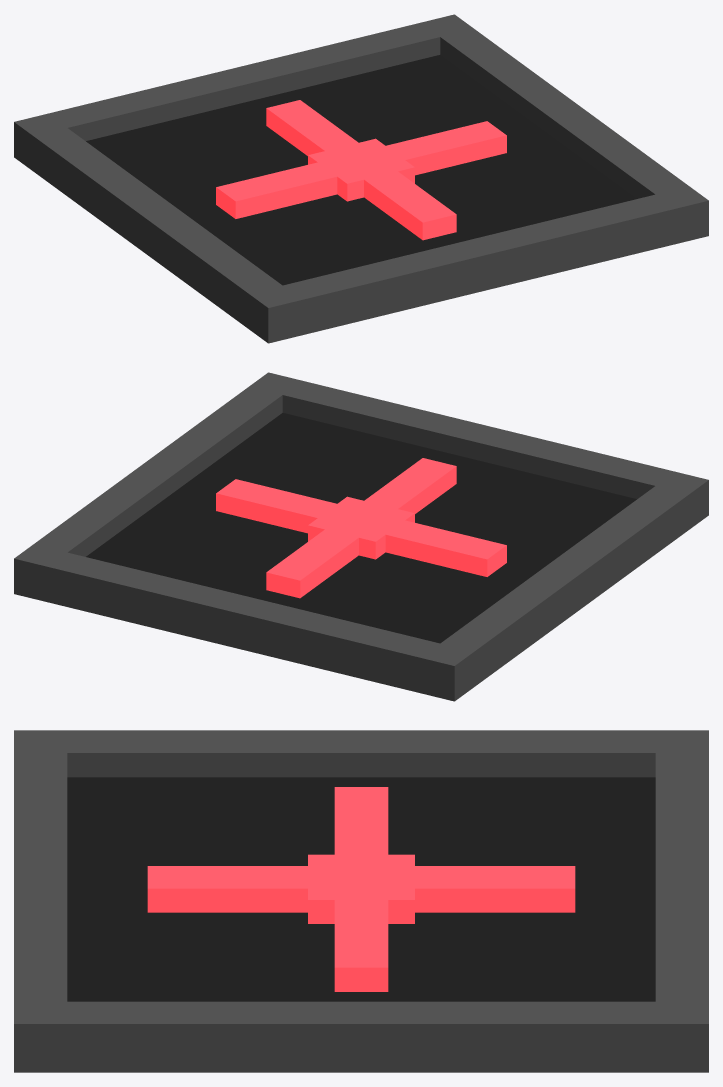
Rendered from trap_LARGE_DOT_RED.glb.
3 renders of one model, top to bottom at view 1: azimuth 30°, elevation 25°; view 2: azimuth 150°, elevation 25°; view 3: azimuth 270°, elevation 25°, orthographic. The views are drawn at different scales.
Visible parts, largest first — view 1: item_TRAP_LARGE_DOT_RED; view 2: item_TRAP_LARGE_DOT_RED; view 3: item_TRAP_LARGE_DOT_RED.
Boxes of the visible parts, box(x1,y1,x2,y2) form: item_TRAP_LARGE_DOT_RED: box(14, 14, 708, 343); item_TRAP_LARGE_DOT_RED: box(14, 372, 708, 701); item_TRAP_LARGE_DOT_RED: box(14, 730, 708, 1072).
Bounding box in the file's own units: 0.5909 × 0.0455 × 0.5909.
Materials: 1 (1 with a texture image).
